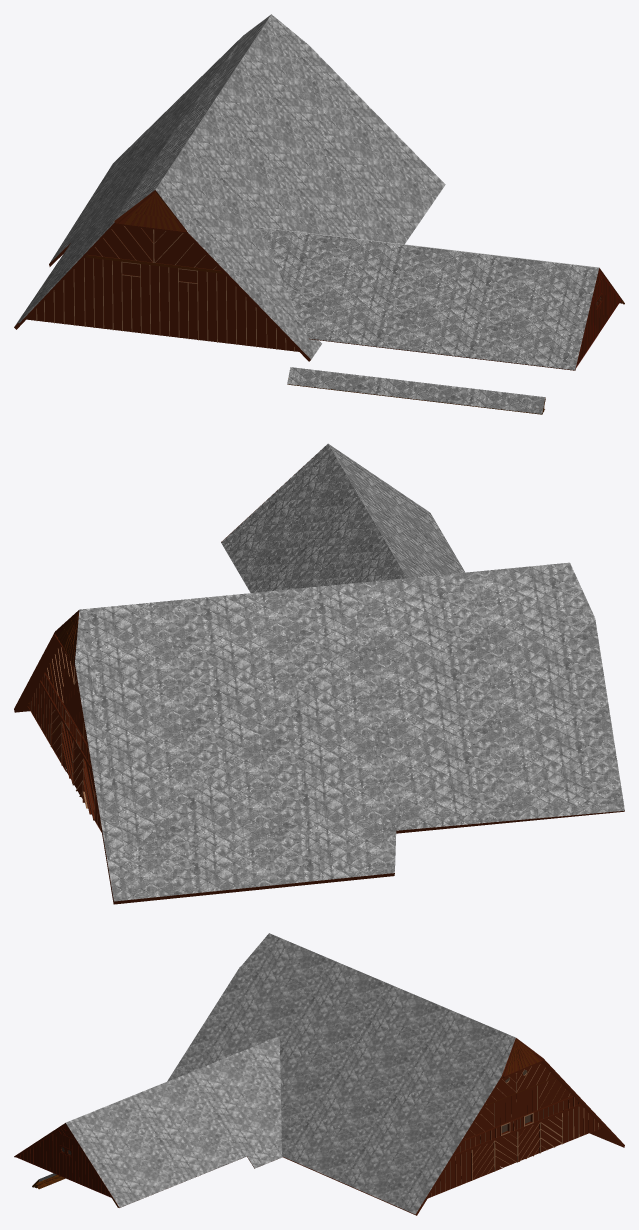
Rendered from krytiny.gltf.
3 renders of one model, top to bottom at view 1: azimuth 30°, elevation 25°; view 2: azimuth 150°, elevation 25°; view 3: azimuth 270°, elevation 25°, orthographic. The views are drawn at different scales.
Parts seen in each view (by area): view 1: root; view 2: root; view 3: root.
Part boxes in pixels (x1,y1,x2,y2): root: (14,14,624,414); root: (14,443,624,904); root: (14,933,624,1215).
Size of the model in its own units: 22.61 by 8.52 by 29.99.
14 materials, 5 textured.
